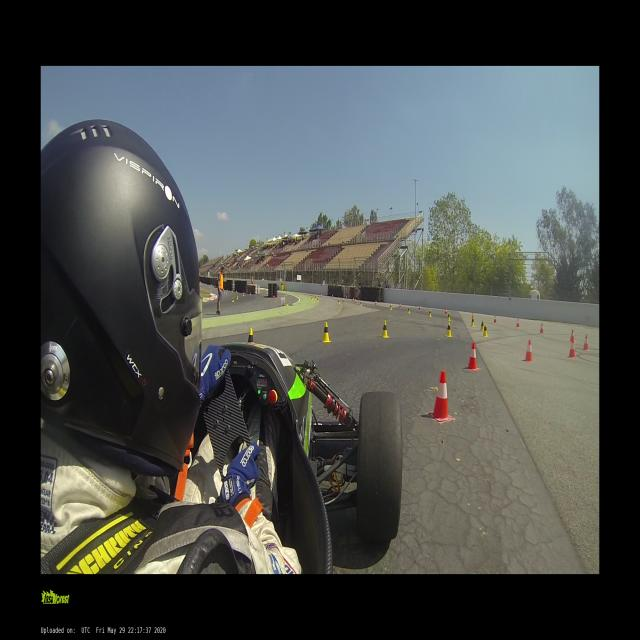orange_cone: (428, 371, 453, 422), (465, 342, 480, 370), (524, 340, 534, 362), (568, 339, 576, 358), (582, 334, 589, 350), (569, 330, 575, 342), (539, 323, 544, 333), (493, 315, 497, 323), (516, 318, 519, 328), (444, 309, 448, 315), (399, 302, 402, 308), (471, 312, 474, 318), (374, 300, 377, 305), (418, 305, 420, 311), (354, 298, 356, 304), (342, 298, 345, 302)
yellow_cone: (322, 322, 332, 342), (381, 321, 389, 338), (445, 323, 452, 337), (248, 328, 254, 344), (482, 324, 488, 337), (480, 320, 484, 331), (470, 318, 474, 327), (447, 313, 451, 321), (389, 304, 393, 311), (428, 310, 431, 317), (407, 307, 410, 313), (231, 297, 234, 303), (337, 299, 340, 304), (359, 301, 362, 306)
